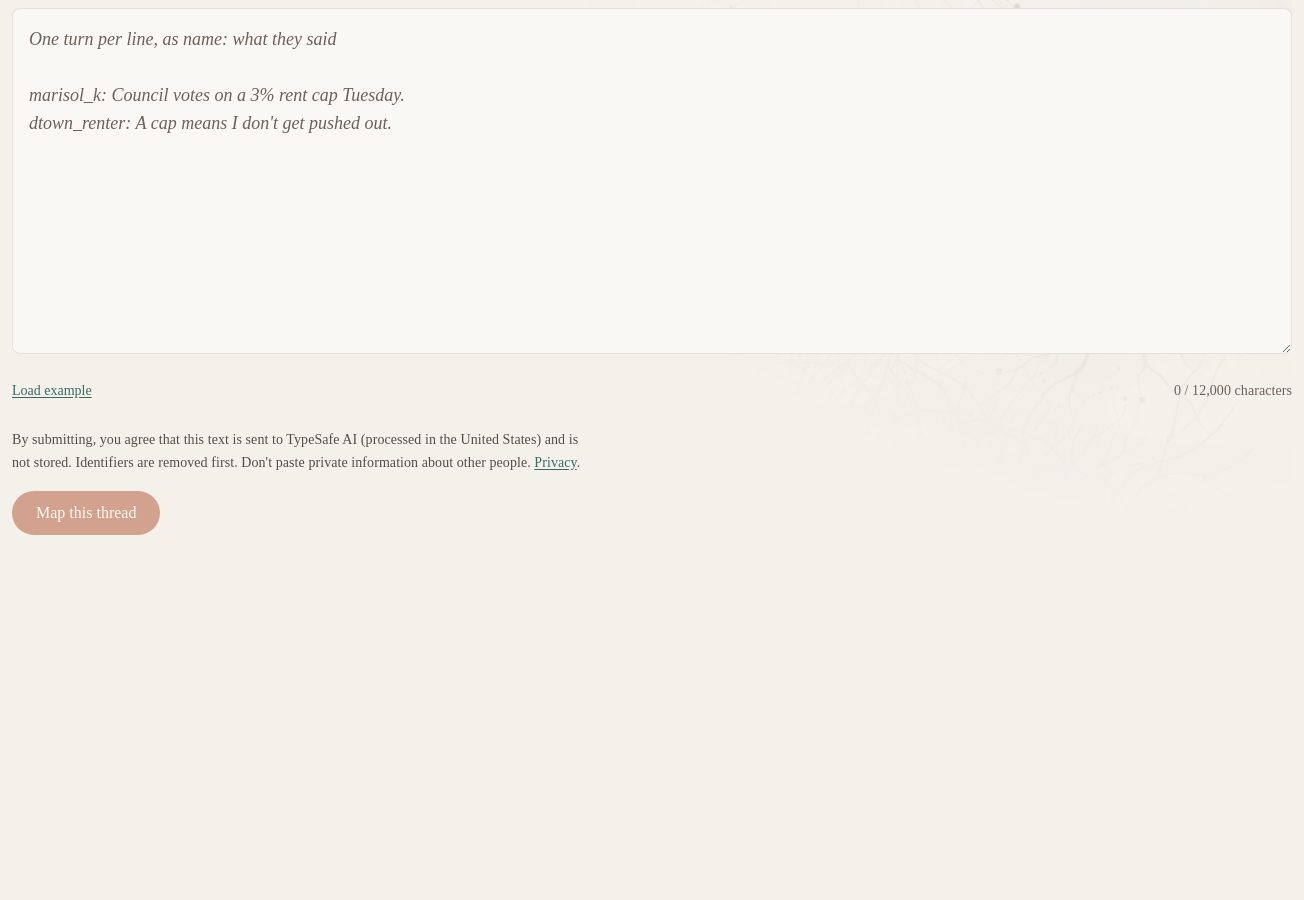
MapReplyClient › explains a RATE_LIMITED response in plain words
Click the button "Load example". click: (52, 391)
box: [12, 369, 92, 413]
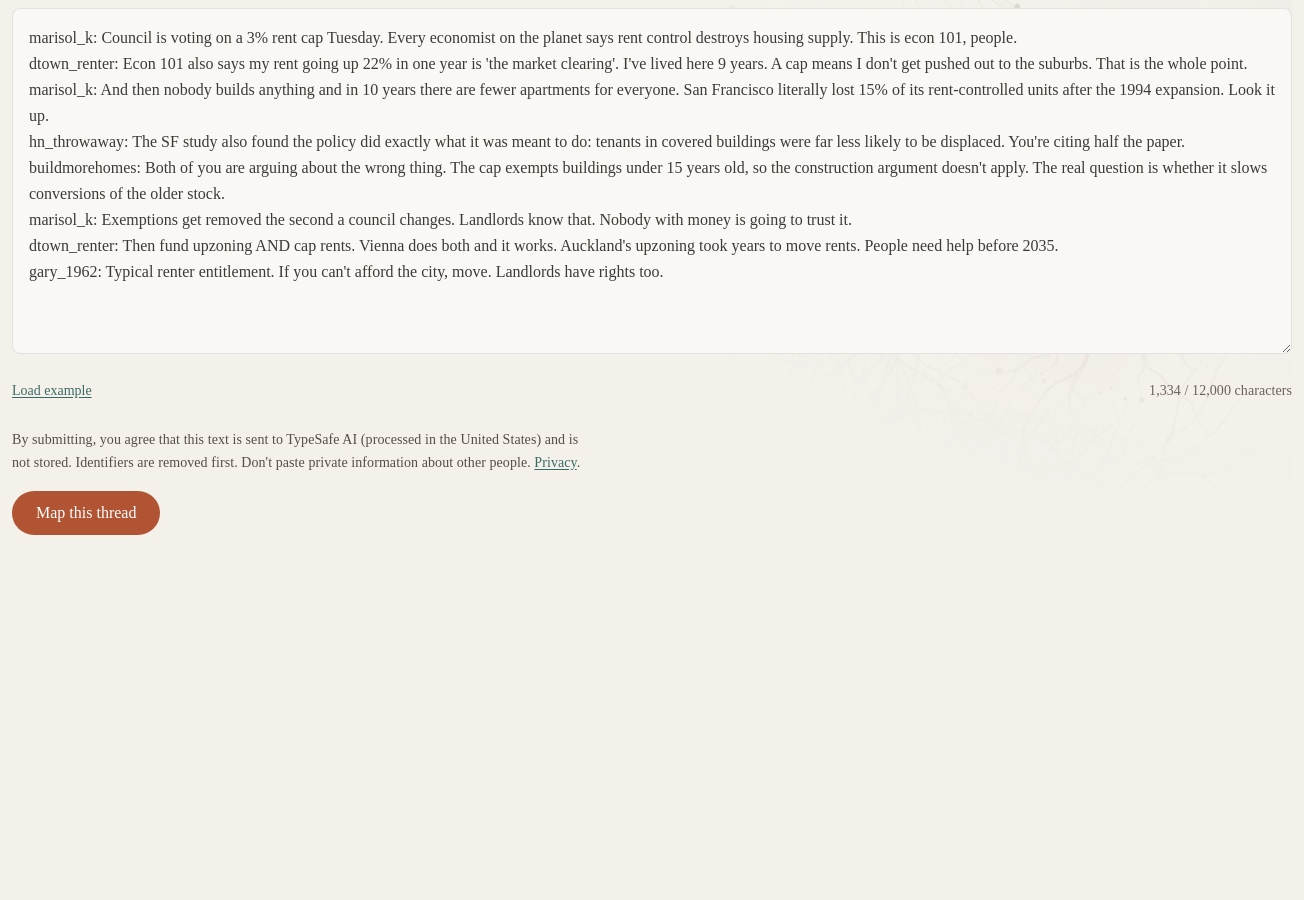
Click the button "Map this thread". click: (86, 512)
box: [12, 490, 160, 534]
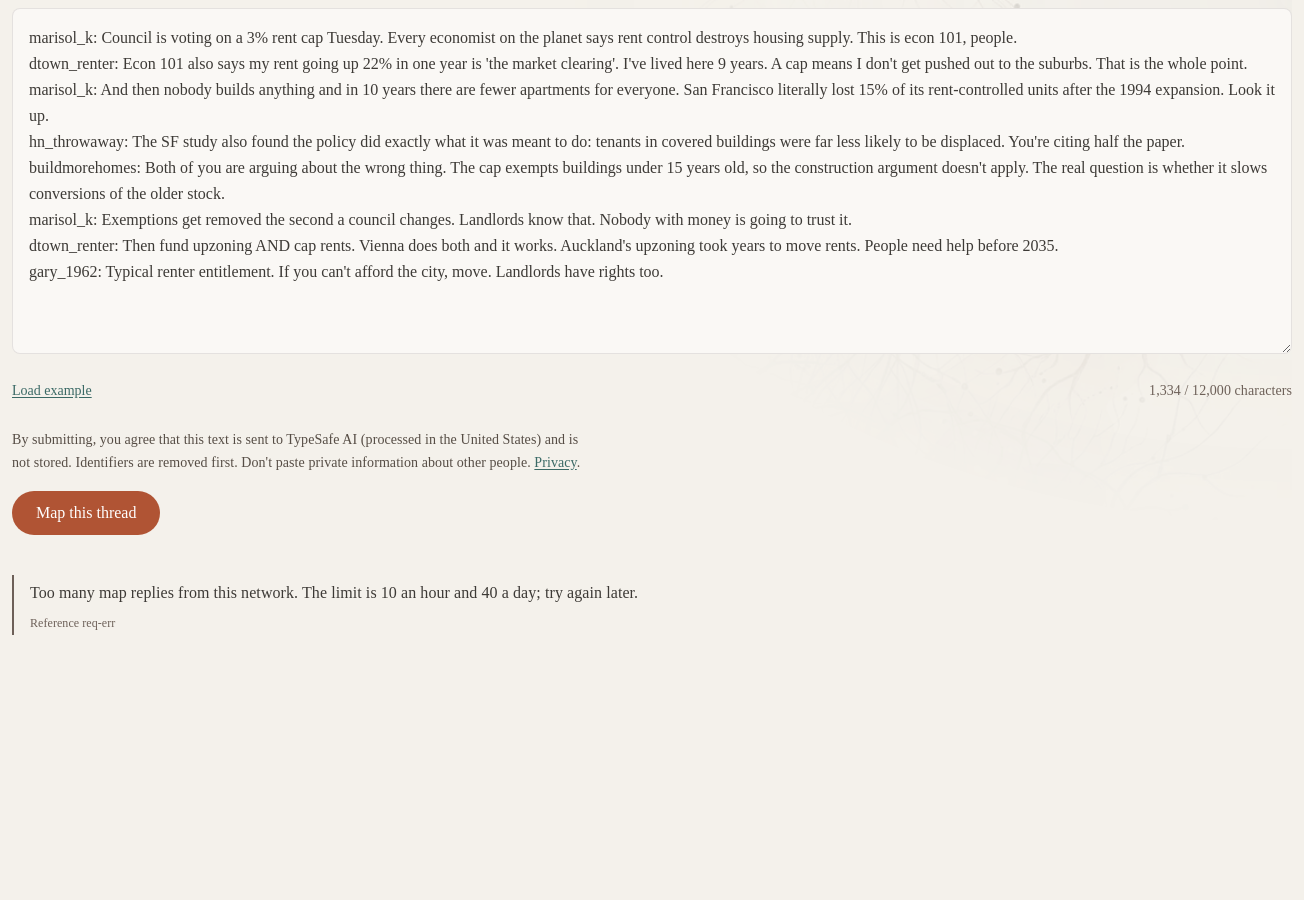
Result: the message shows "10 an hour and 40 a day" at [30, 584, 638, 600]
Result: the text "Reference req-err" is shown at [30, 616, 115, 630]
